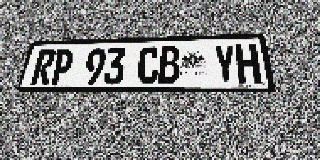3: (103, 48, 126, 84)
9: (83, 48, 107, 84)
B: (158, 46, 179, 84)
C: (137, 47, 159, 84)
H: (235, 44, 262, 83)
P: (49, 49, 75, 85)
R: (30, 50, 57, 85)
Y: (213, 44, 238, 84)
